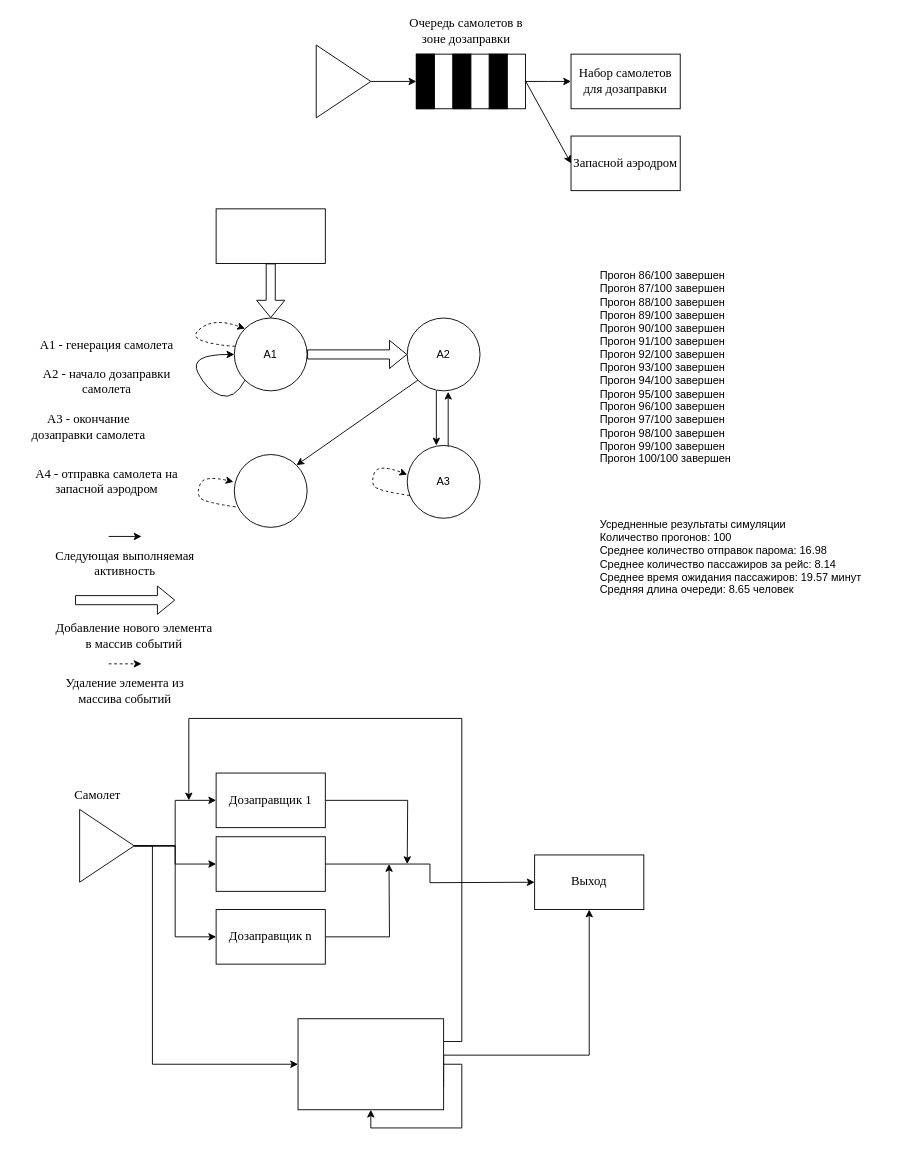
This 905x1151 diagram has some shape labels left out. The box of each missing label's shape, as (x1, y1, x2, y2) in pixels:
А4: (233, 454, 307, 527)
Дозаправщик 2: (215, 836, 325, 891)
Зона ожидания: (297, 1018, 444, 1110)
Начало моделирования: (215, 208, 325, 263)
